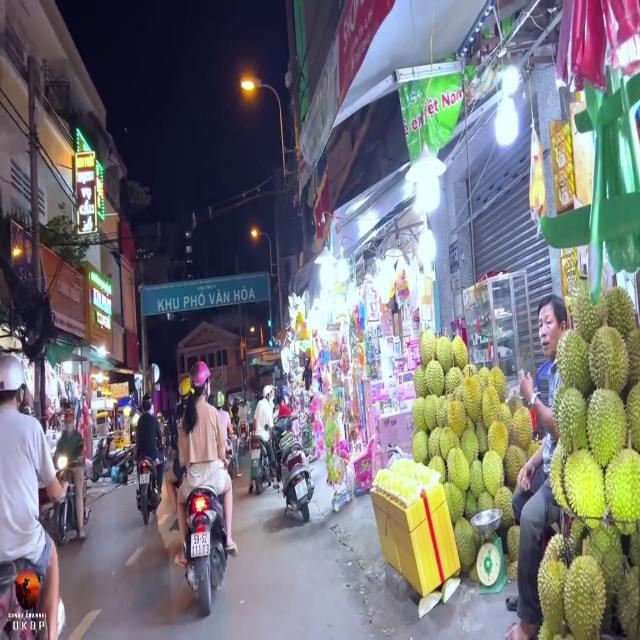bien_trang: (186, 528, 214, 559)
